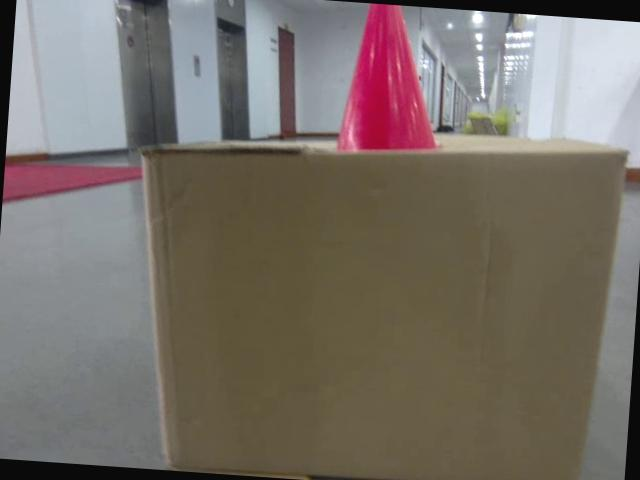red_barrel: (334, 4, 452, 158)
